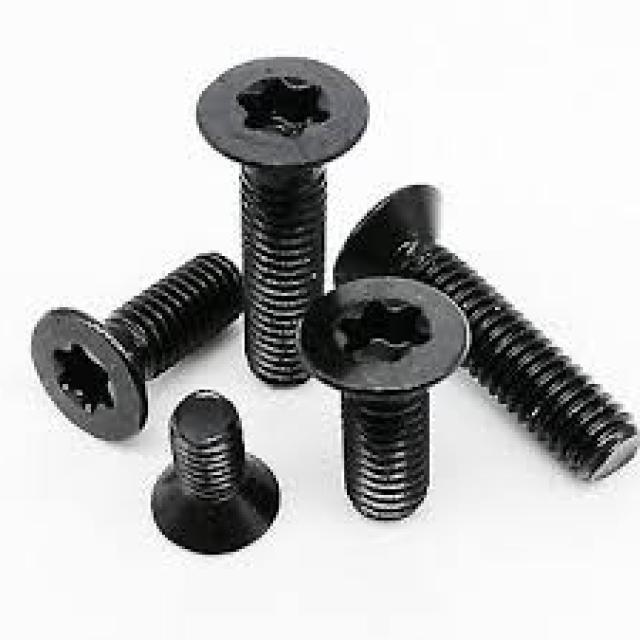torx: (294, 275, 469, 390), (192, 53, 372, 159), (28, 305, 147, 443)
